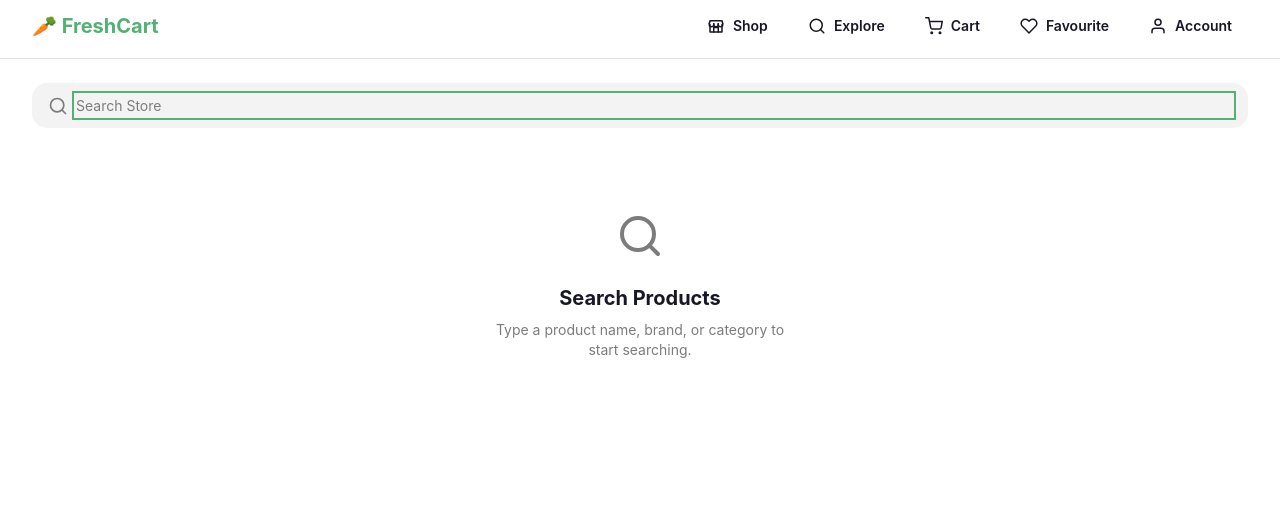
Test case: SearchPage › retries a failed search when clicking Try Again
In the search field labelled "Search Store": (654, 106) left=76, top=95, right=1232, bottom=116, type "apple"
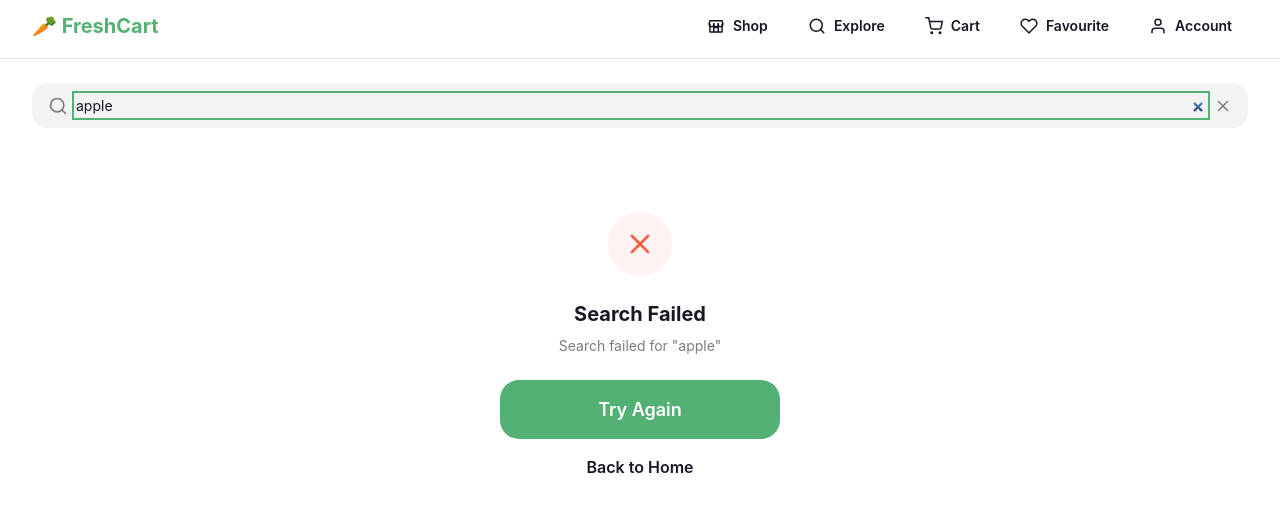
Check: the heading "Search Failed" is shown, box left=574, top=300, right=706, bottom=328
Click the button "Try Again": (640, 410) left=500, top=380, right=780, bottom=439
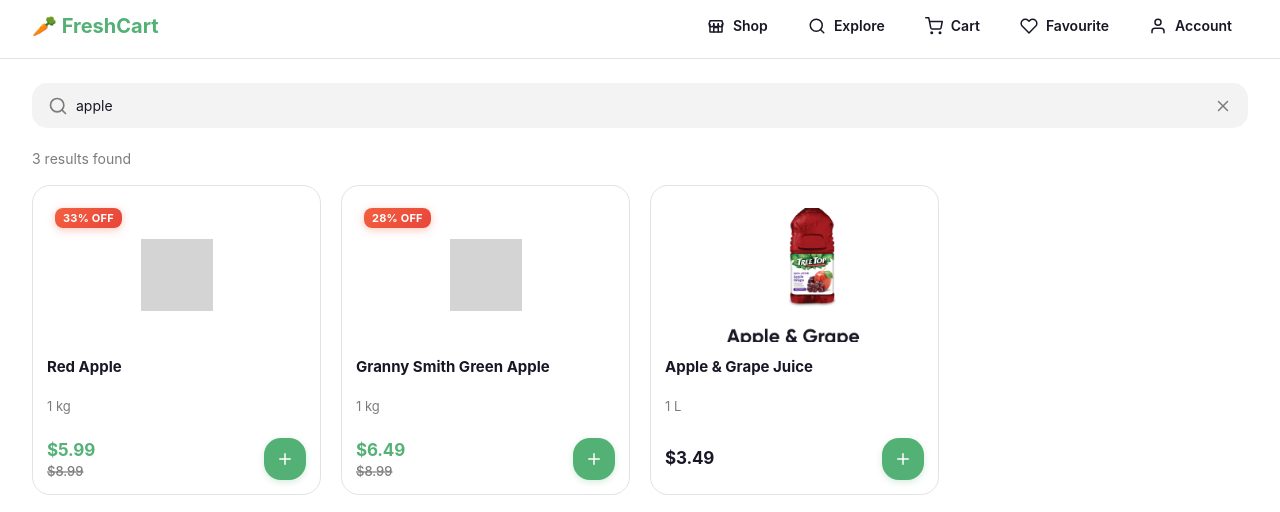
Check: the heading "Red Apple" is shown, box left=47, top=357, right=122, bottom=376
